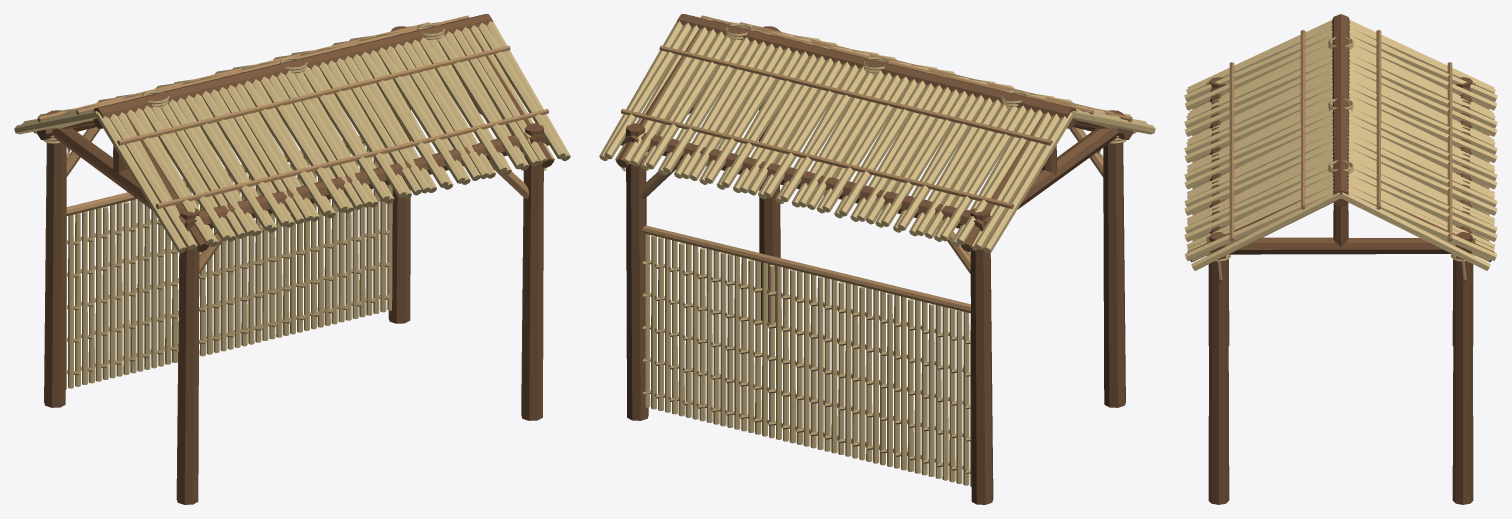
3 views of the same model, side by side, from view 1: azimuth 30°, elevation 25°; view 2: azimuth 150°, elevation 25°; view 3: azimuth 270°, elevation 25° (orthographic). The views are drawn at different scales.
Visible parts, largest first — view 1: BA-0003 batched; view 2: BA-0003 batched; view 3: BA-0003 batched.
Boxes of the visible parts, <box> form: BA-0003 batched: <box>14,14,570,504</box>; BA-0003 batched: <box>599,14,1155,504</box>; BA-0003 batched: <box>1184,14,1497,504</box>.
Size of the model in its own units: 3.43 by 2.91 by 2.57.
